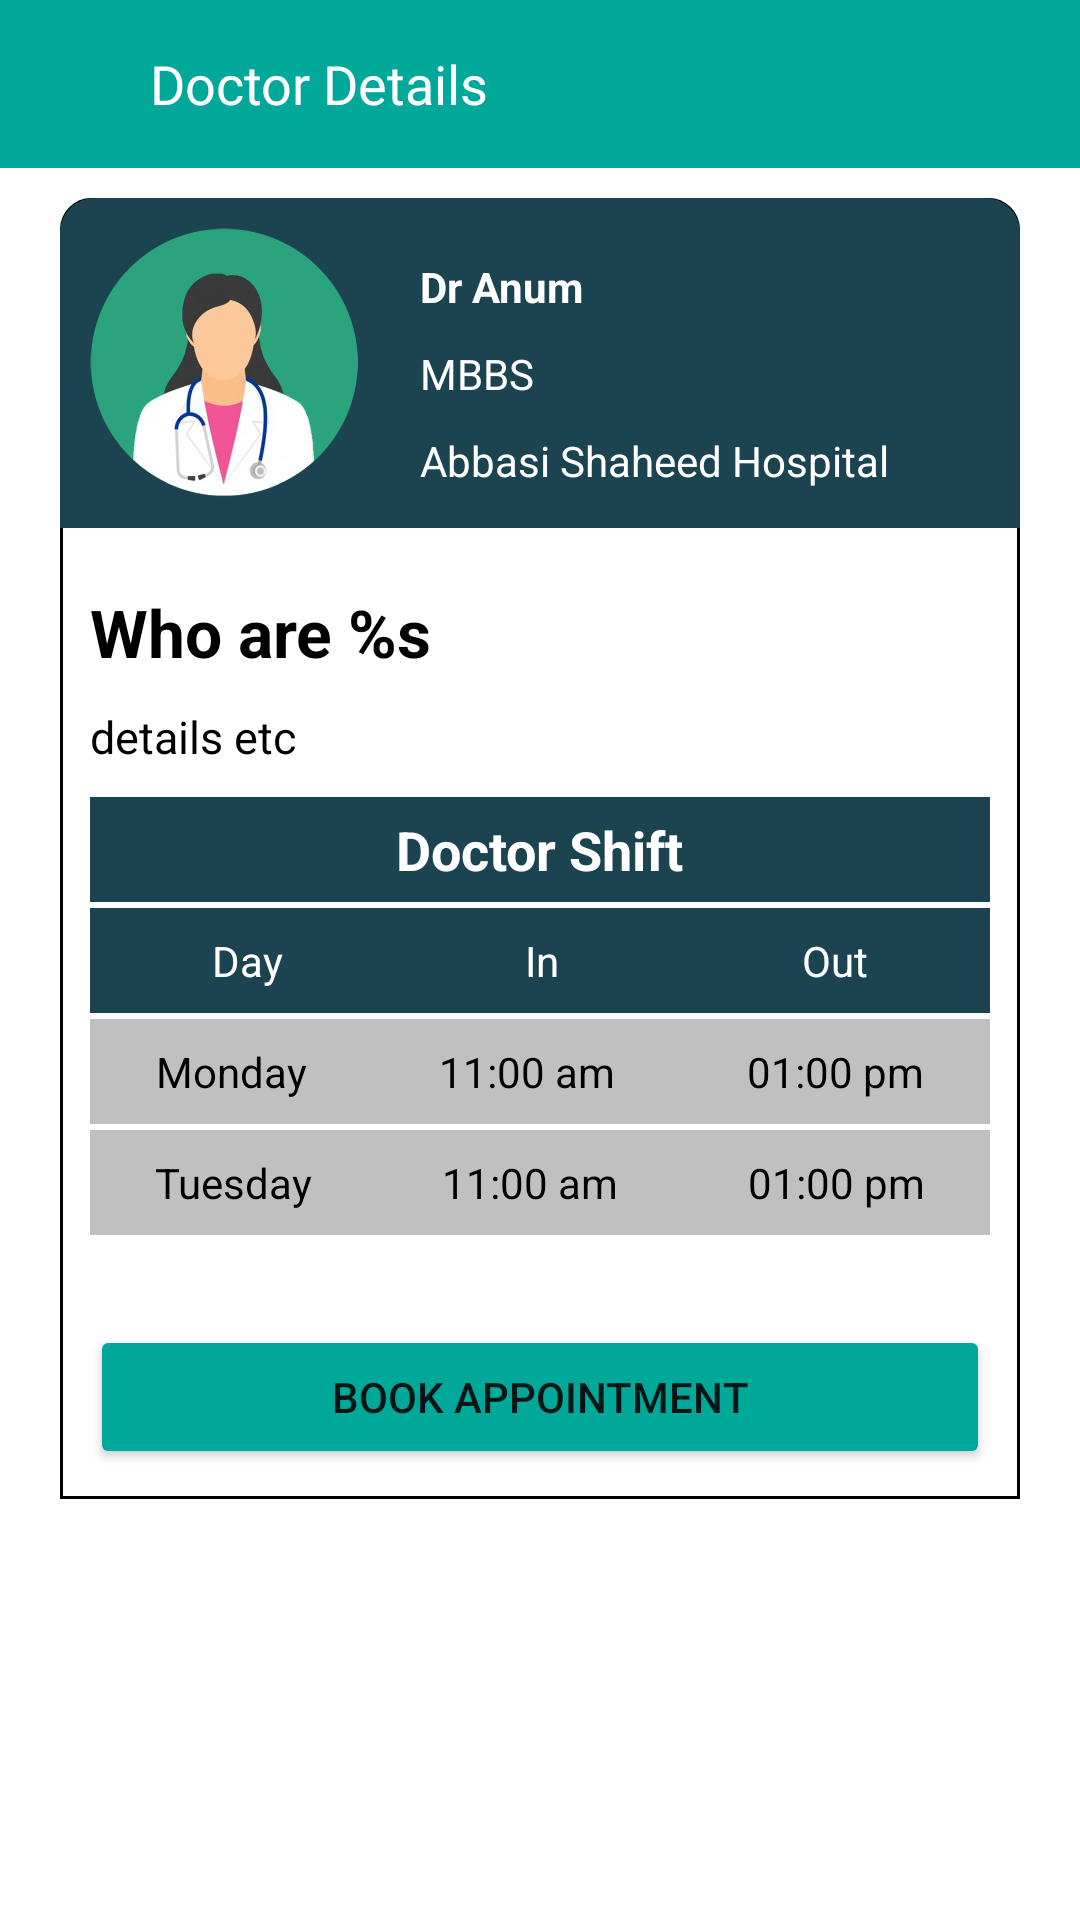

Icon bounding boxes for this 1080 × 1920 phone screenshot, format (x1, y1, x2, y2):
female doctor: (90, 228, 358, 496)
